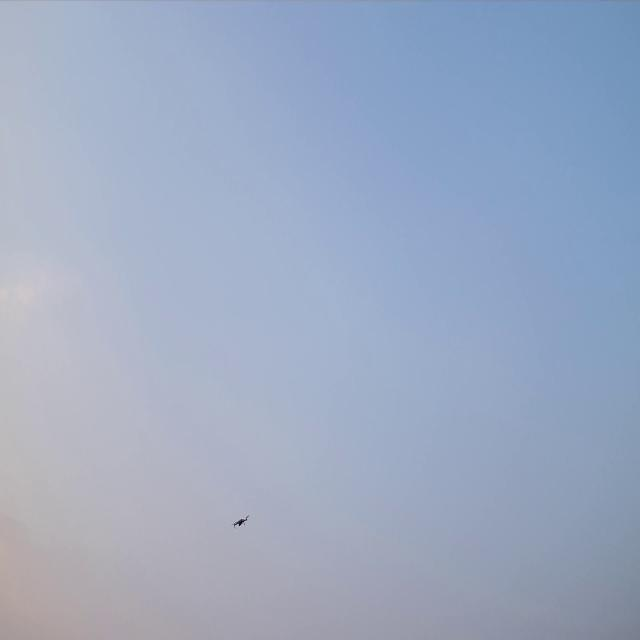UAV: (232, 513, 250, 531)
